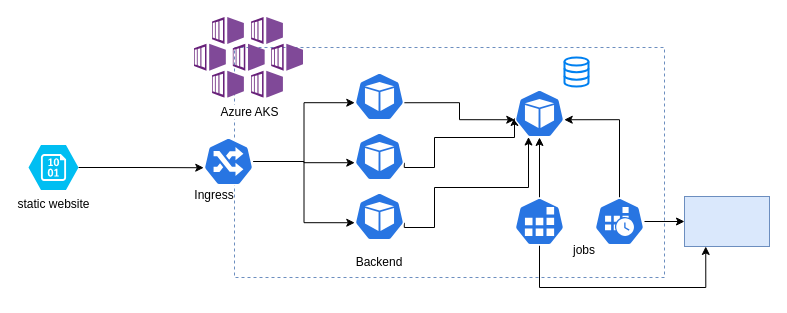
This 787x313 diagram has some shape labels left out. Each missing label, with the centre of its shape:
"PostgreSQL" goes at point 576,71.
"Twitter API" goes at point 727,221.
